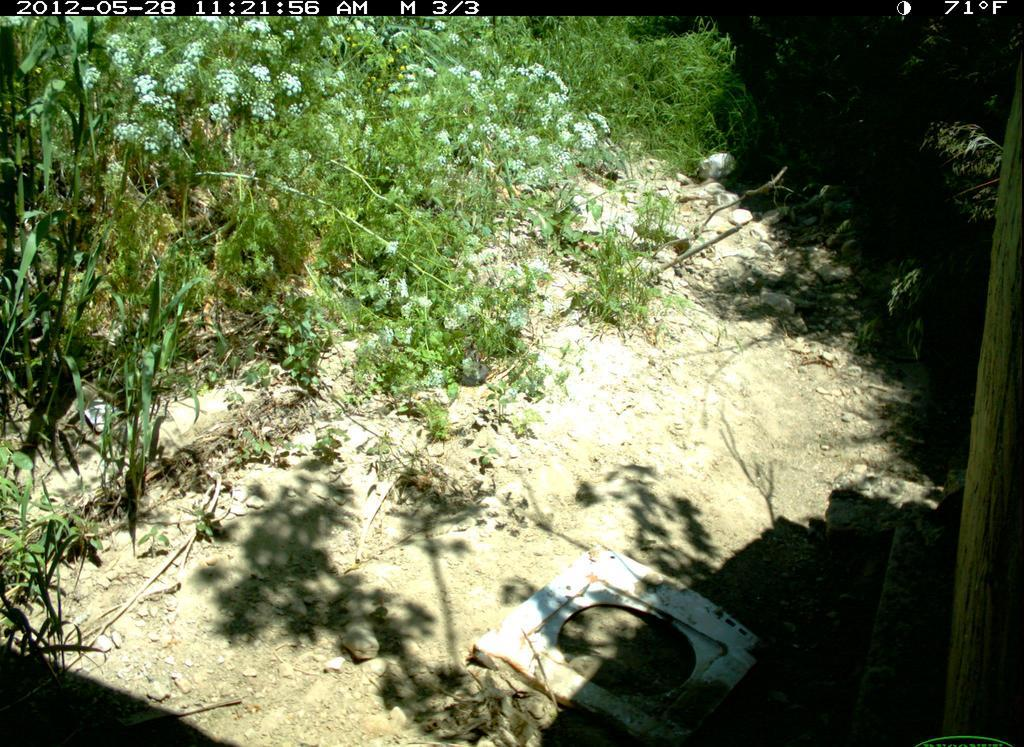cat: (453, 340, 491, 388)
